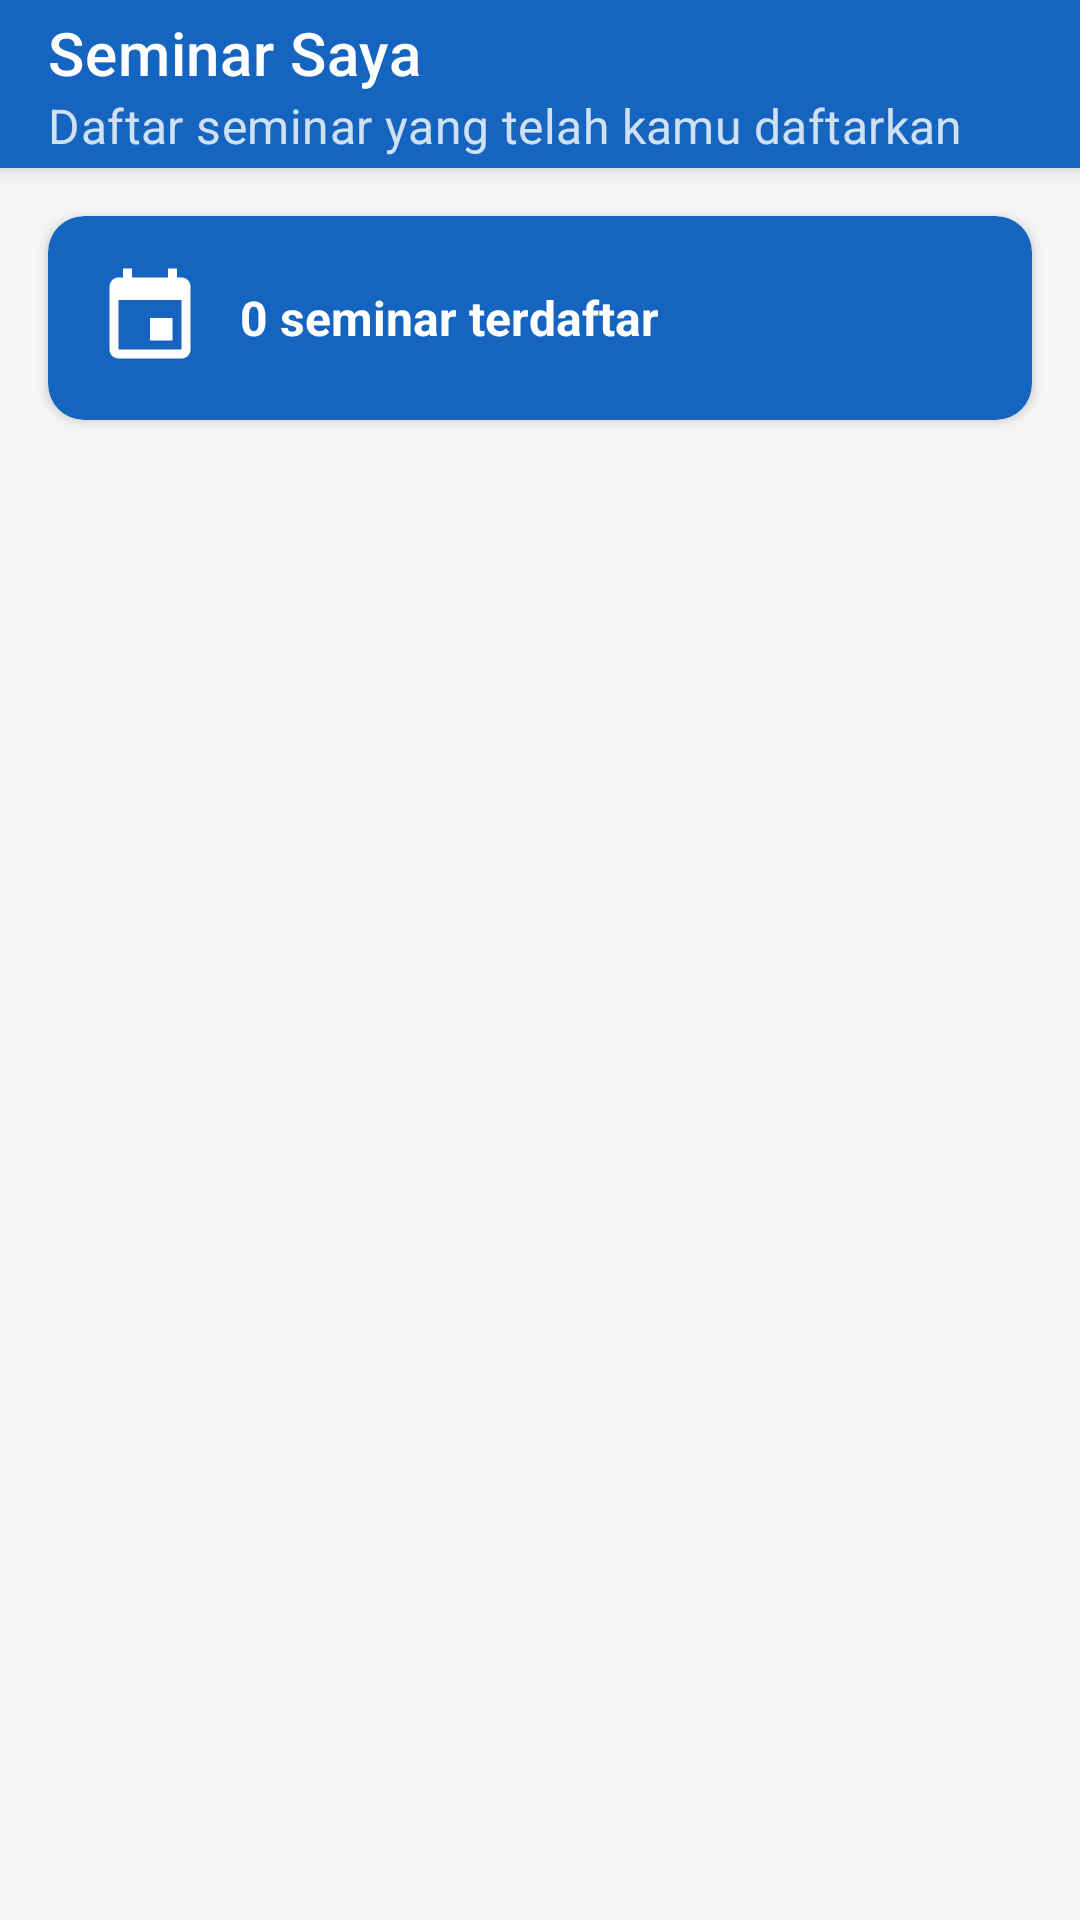

Named icons in this screenshot (1080 x 1920) and their bounding boxes, BBox(x1, y1, x2, y2):
event: BBox(109, 268, 191, 359)
